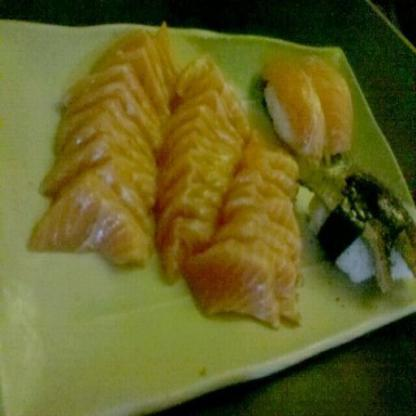salmon: (26, 27, 300, 317)
